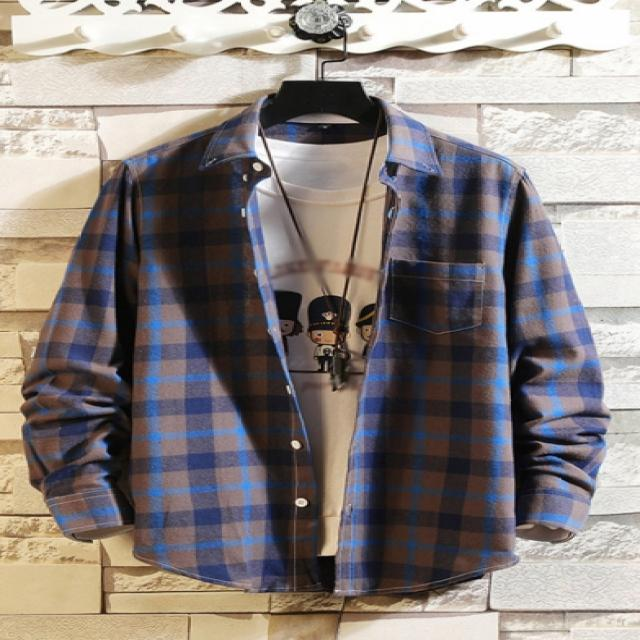plaid: (43, 121, 614, 586)
